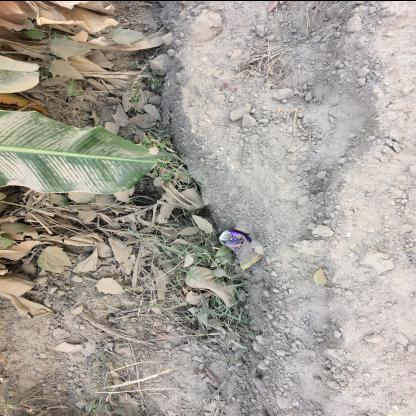plastik: (218, 228, 264, 270)
